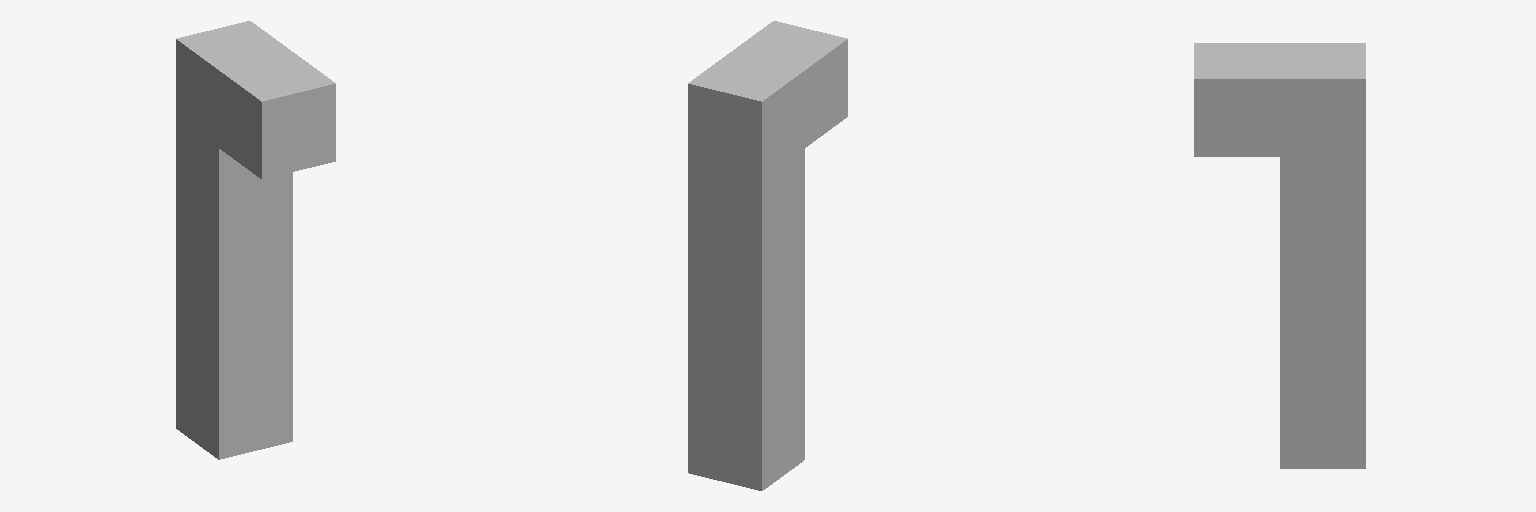
File: character_1.obj
3 renders of one model, left to right at view 1: azimuth 30°, elevation 25°; view 2: azimuth 150°, elevation 25°; view 3: azimuth 270°, elevation 25°, orthographic.
Visible parts, largest first — view 1: Cube; view 2: Cube; view 3: Cube.
Boxes of the visible parts, x1=… form: Cube: x1=176, y1=21, x2=335, y2=459; Cube: x1=688, y1=21, x2=847, y2=490; Cube: x1=1194, y1=43, x2=1365, y2=468.
Size of the model in its own units: 6 by 30 by 12.